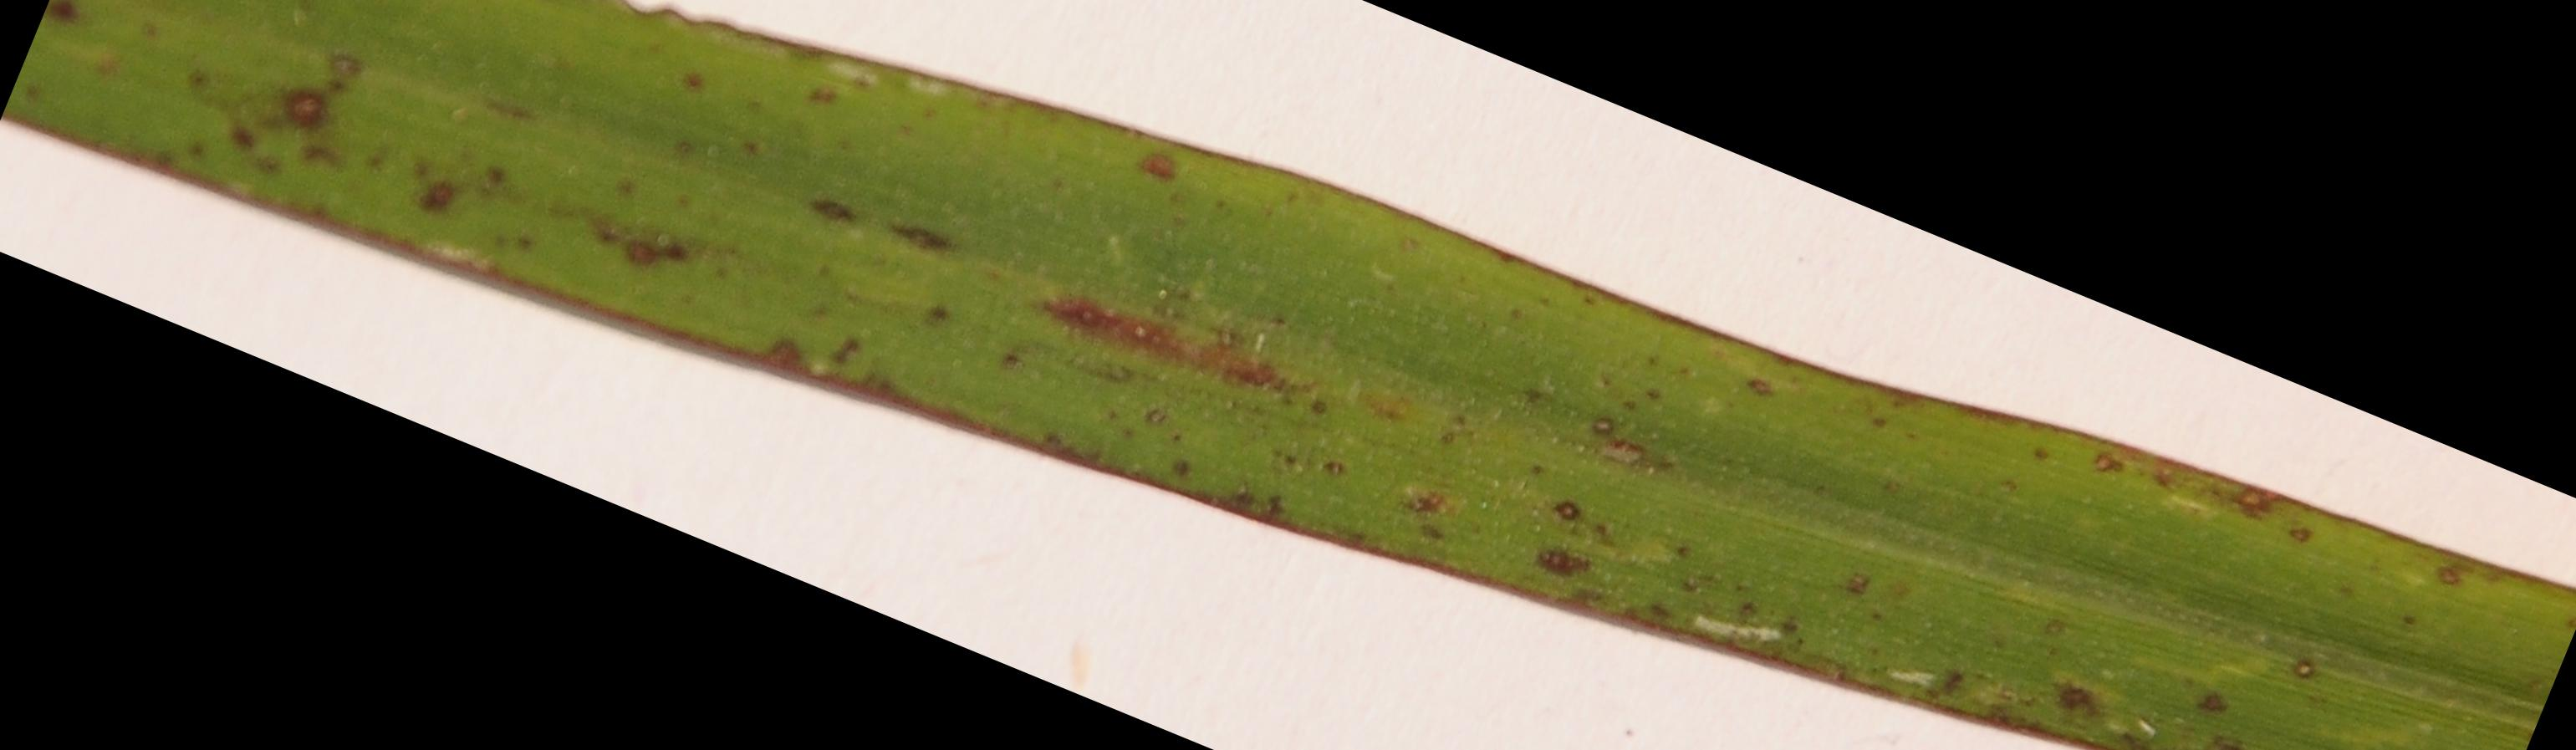leaf_smut: (260, 51, 2270, 722)
